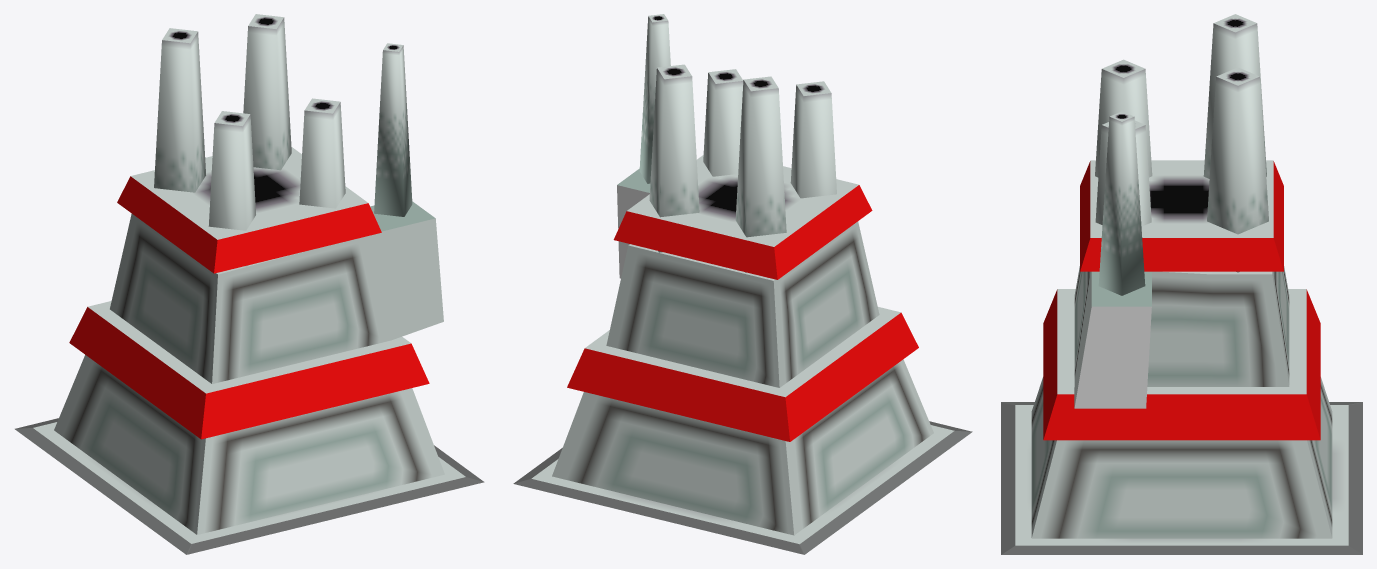
Rendered from Bld_Oil_Refinery_LargeTarget01.fbx.
3 views of the same model, side by side, from view 1: azimuth 30°, elevation 25°; view 2: azimuth 150°, elevation 25°; view 3: azimuth 270°, elevation 25° (orthographic). The views are drawn at different scales.
Parts seen in each view (by area): view 1: BLD_OilRefinery_LargeTarget; view 2: BLD_OilRefinery_LargeTarget; view 3: BLD_OilRefinery_LargeTarget.
Boxes of the visible parts, x1,y1,x2,y2 form: BLD_OilRefinery_LargeTarget: (15, 14, 484, 554); BLD_OilRefinery_LargeTarget: (513, 14, 972, 554); BLD_OilRefinery_LargeTarget: (1001, 14, 1362, 554).
Size of the model in its own units: 789 by 789 by 1041.
